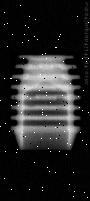Novodent: (10, 52, 81, 151)
